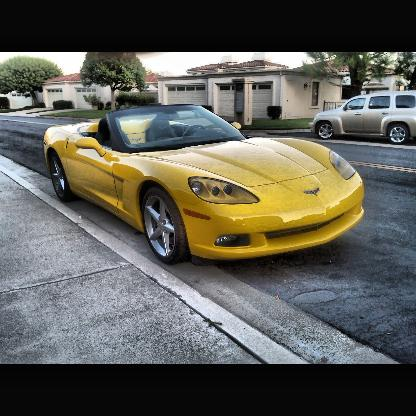Chevrolet Corvette Convertible 2012: (45, 105, 366, 266)
